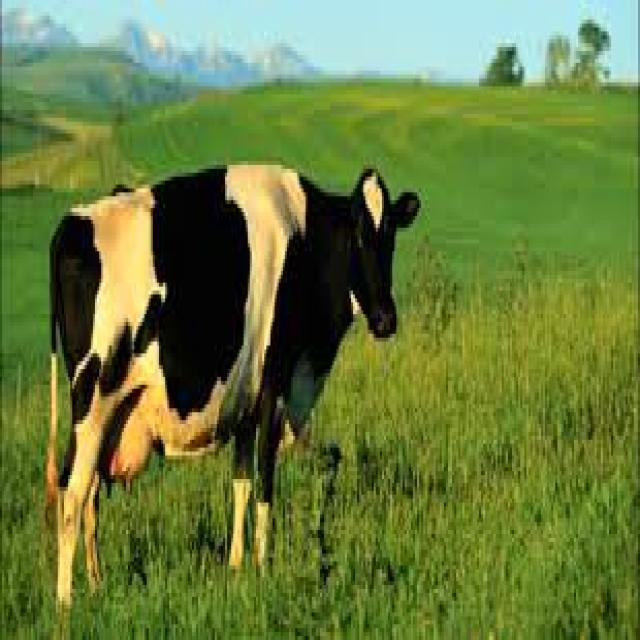cow: (45, 165, 417, 601)
